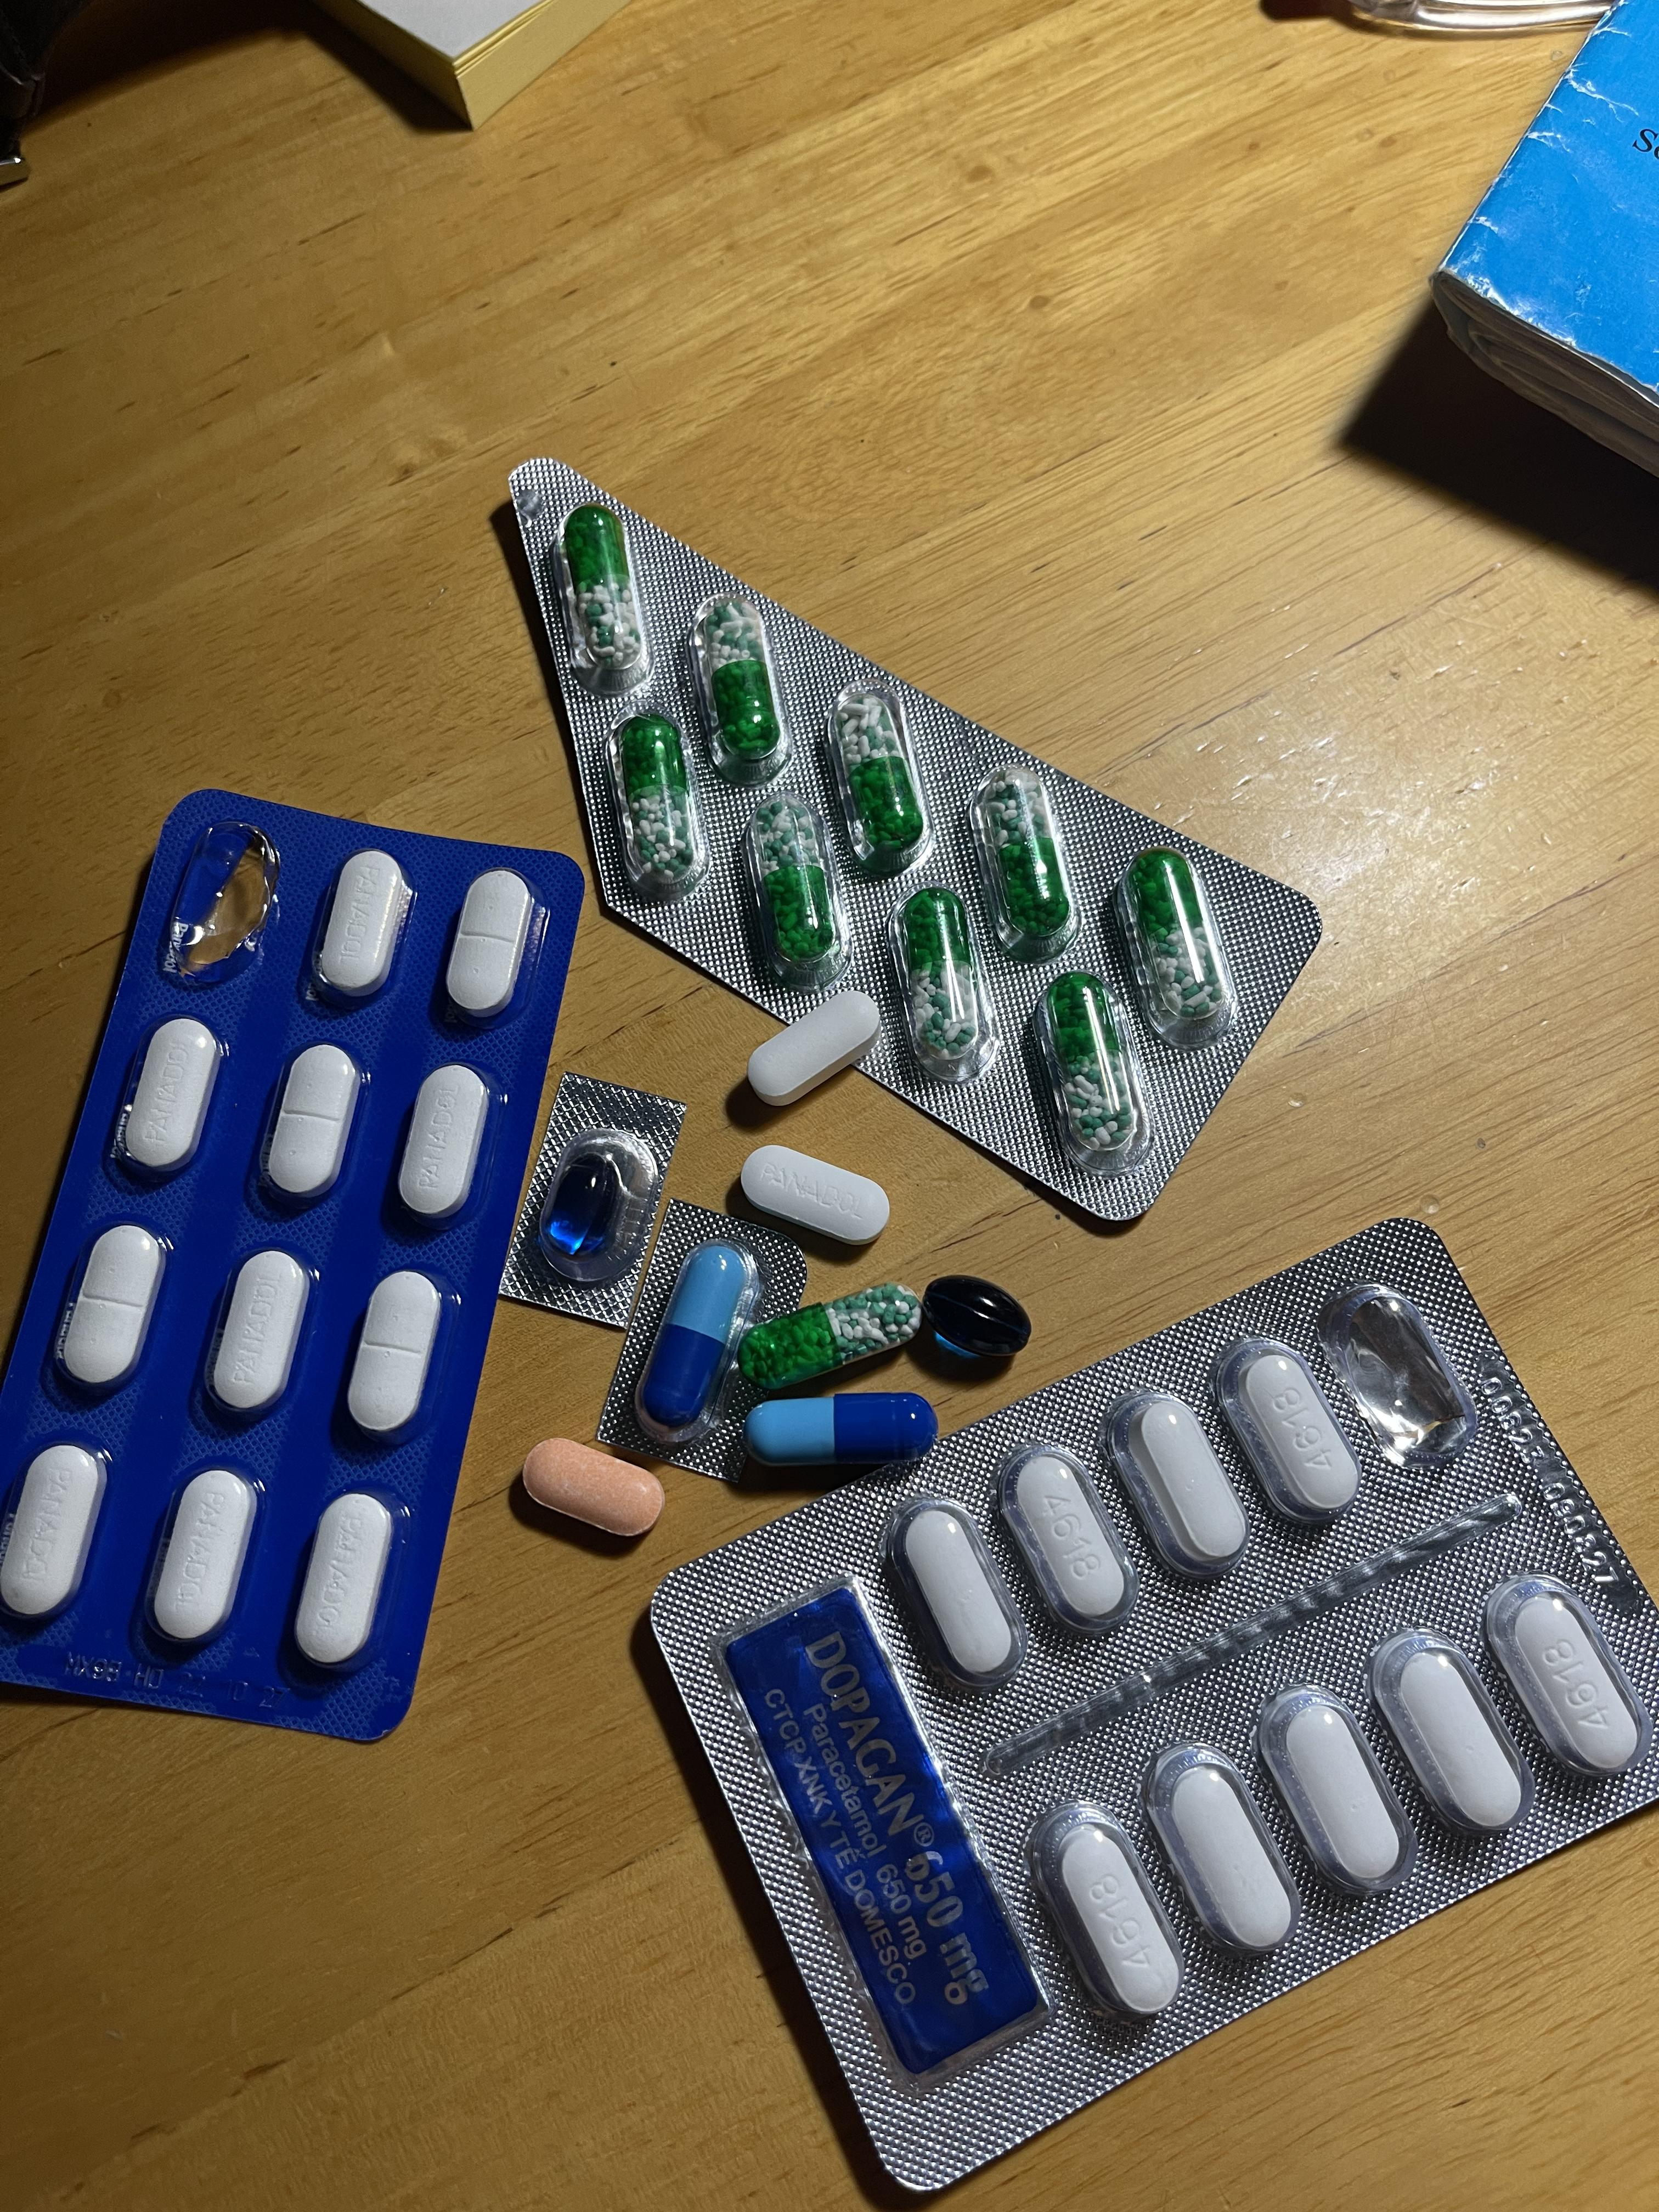Lincomyxin_500mg: (918, 1271, 1032, 1359), (544, 1155, 619, 1254)
Loratadine_10mg: (519, 1435, 667, 1534)
Paracetamol_350mg: (148, 1468, 258, 1646), (0, 1442, 105, 1623), (61, 1223, 166, 1395), (207, 1251, 310, 1420), (293, 1494, 392, 1669), (265, 1043, 362, 1207), (122, 1017, 221, 1177), (735, 1143, 890, 1244), (347, 1271, 439, 1439), (315, 852, 413, 1001), (397, 1064, 490, 1221), (446, 869, 537, 1019)
Paracetamol_500mg: (1025, 1792, 1171, 2024), (1105, 1390, 1248, 1588), (1277, 1698, 1399, 1888), (1394, 1648, 1521, 1827), (1166, 1764, 1286, 1949), (1518, 1597, 1643, 1770), (904, 1507, 1016, 1676), (1241, 1353, 1356, 1515), (1016, 1456, 1122, 1618), (749, 989, 882, 1099)
Paracetamol_650mg: (1131, 848, 1243, 1043), (1033, 974, 1141, 1169), (971, 761, 1077, 949), (744, 796, 847, 989), (826, 686, 925, 873), (746, 1280, 915, 1388), (896, 888, 988, 1082), (610, 712, 708, 894), (692, 596, 791, 773), (563, 509, 643, 683)
pill: (633, 1245, 755, 1442), (751, 1397, 929, 1470)
